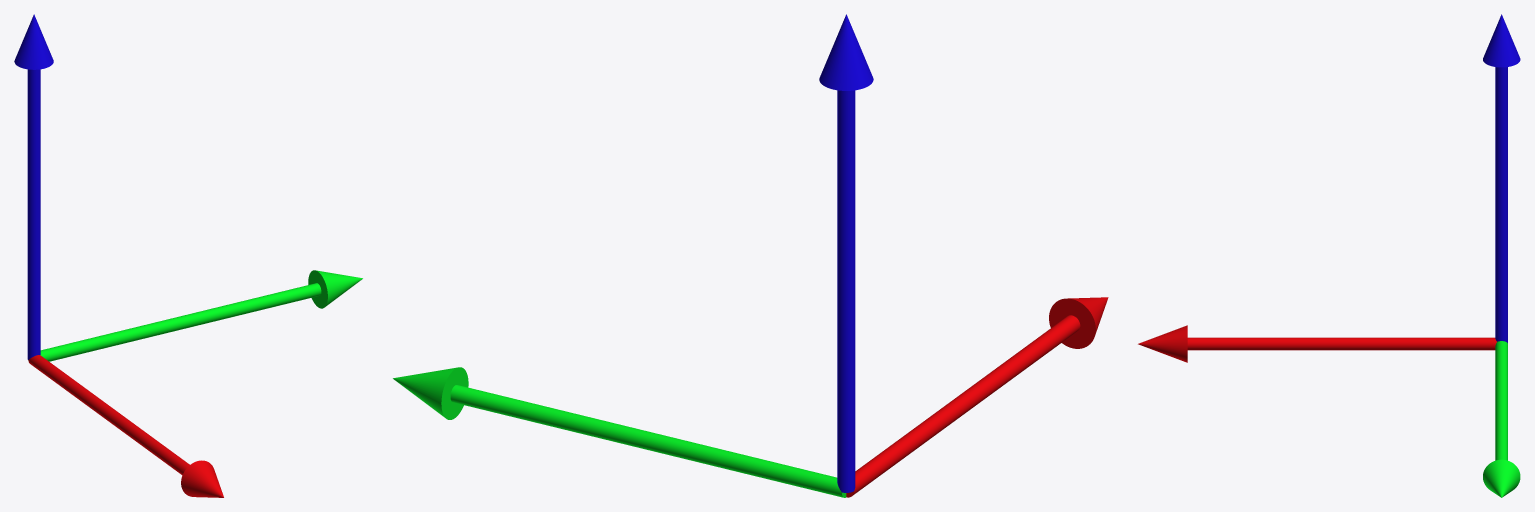
The model's file is axes_color.glb.
3 views of the same model, side by side, from view 1: azimuth 30°, elevation 25°; view 2: azimuth 150°, elevation 25°; view 3: azimuth 270°, elevation 25° (orthographic). The views are drawn at different scales.
Parts seen in each view (by area): view 1: Y Axis, X Axis, Z Axis; view 2: Y Axis, X Axis, Z Axis; view 3: Z Axis, Y Axis, X Axis.
Boxes of the visible parts, x1,y1,x2,y2 form: Y Axis: (14,14,53,359); X Axis: (40,270,362,361); Z Axis: (28,355,223,497); Y Axis: (819,14,873,492); X Axis: (393,367,846,497); Z Axis: (846,297,1108,497); Z Axis: (1138,325,1496,362); Y Axis: (1483,14,1520,342); X Axis: (1483,341,1520,497).
Bounding box in the file's own units: 0.61 × 0.61 × 0.61.
